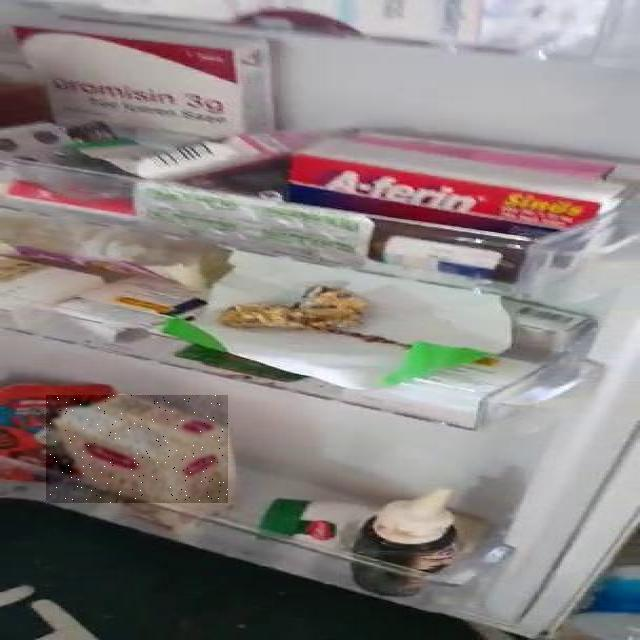Milk: (46, 395, 228, 503)
